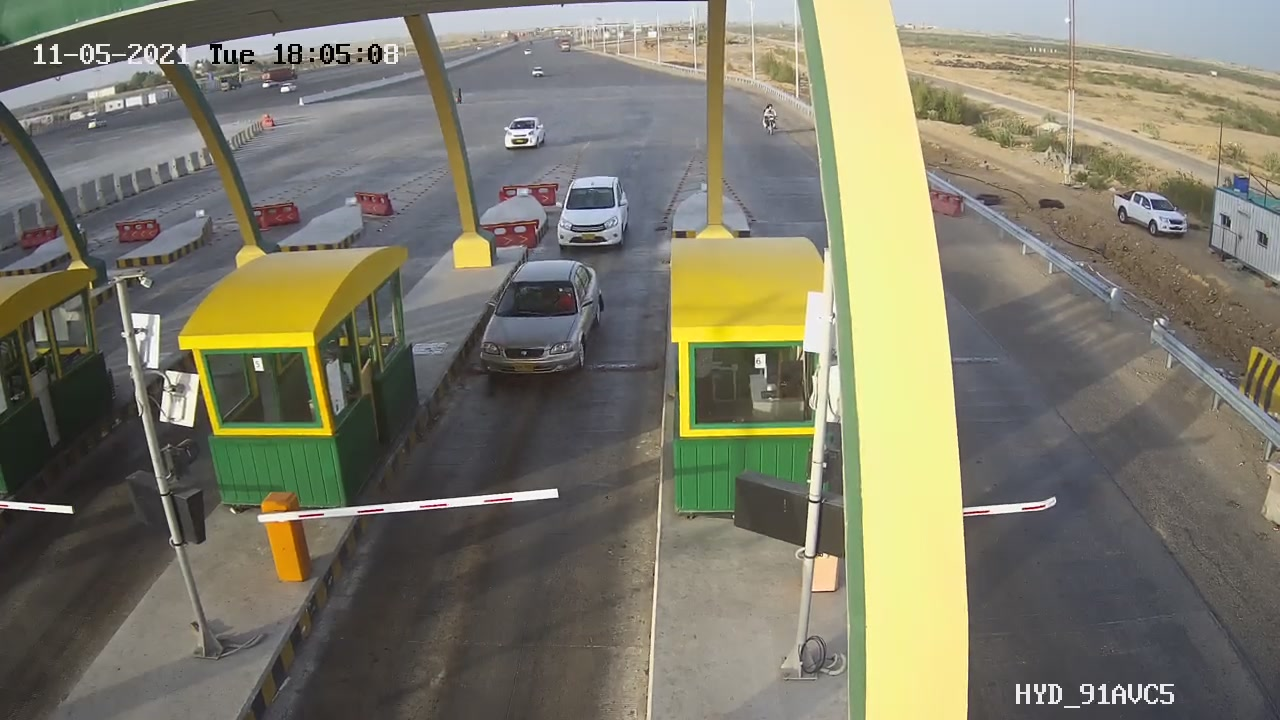F1: (465, 253, 625, 395), (544, 165, 640, 257)
